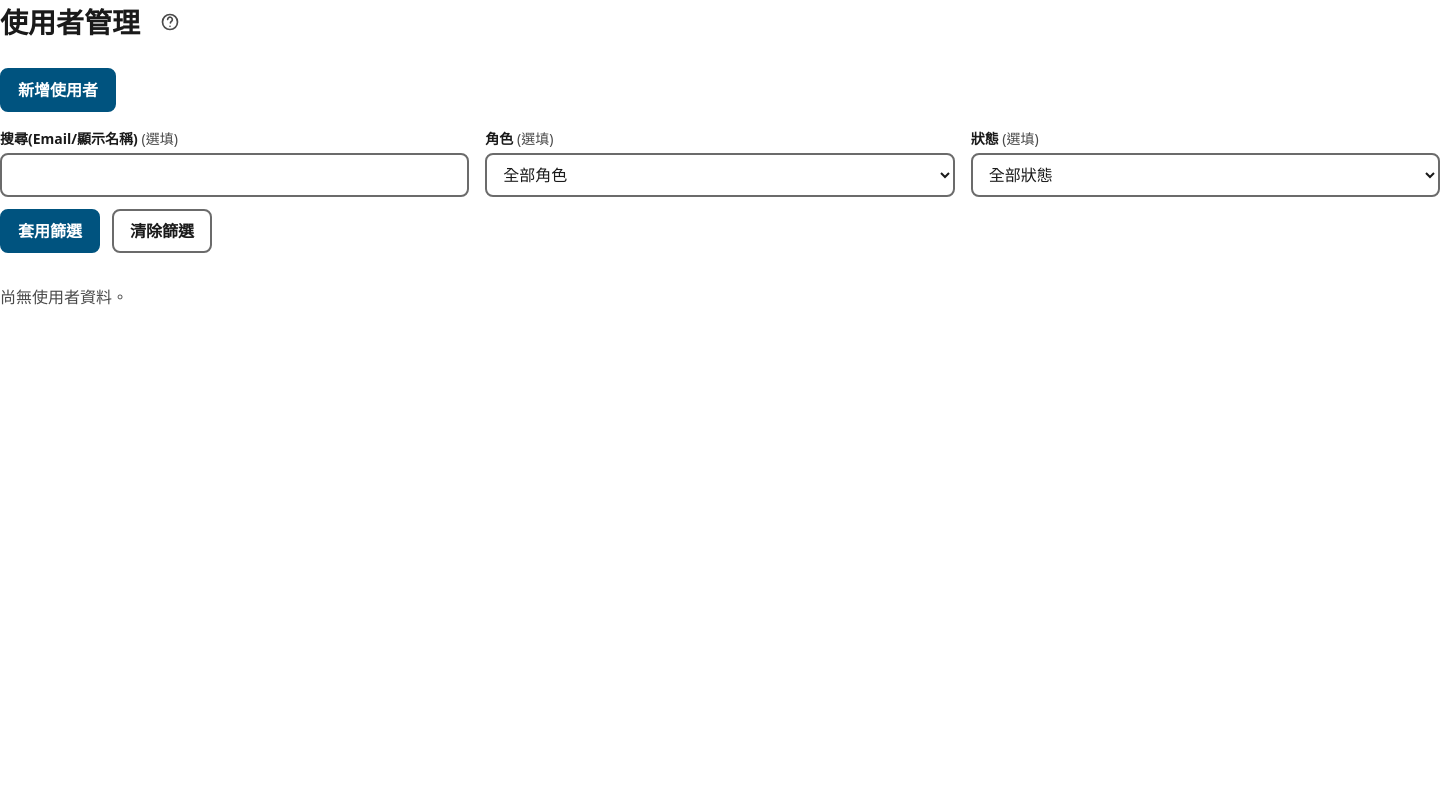
Test case: UsersAdminPage › validates the create form before submitting
Click the button "新增使用者".
click(58, 90)  # box [0,68,116,112]
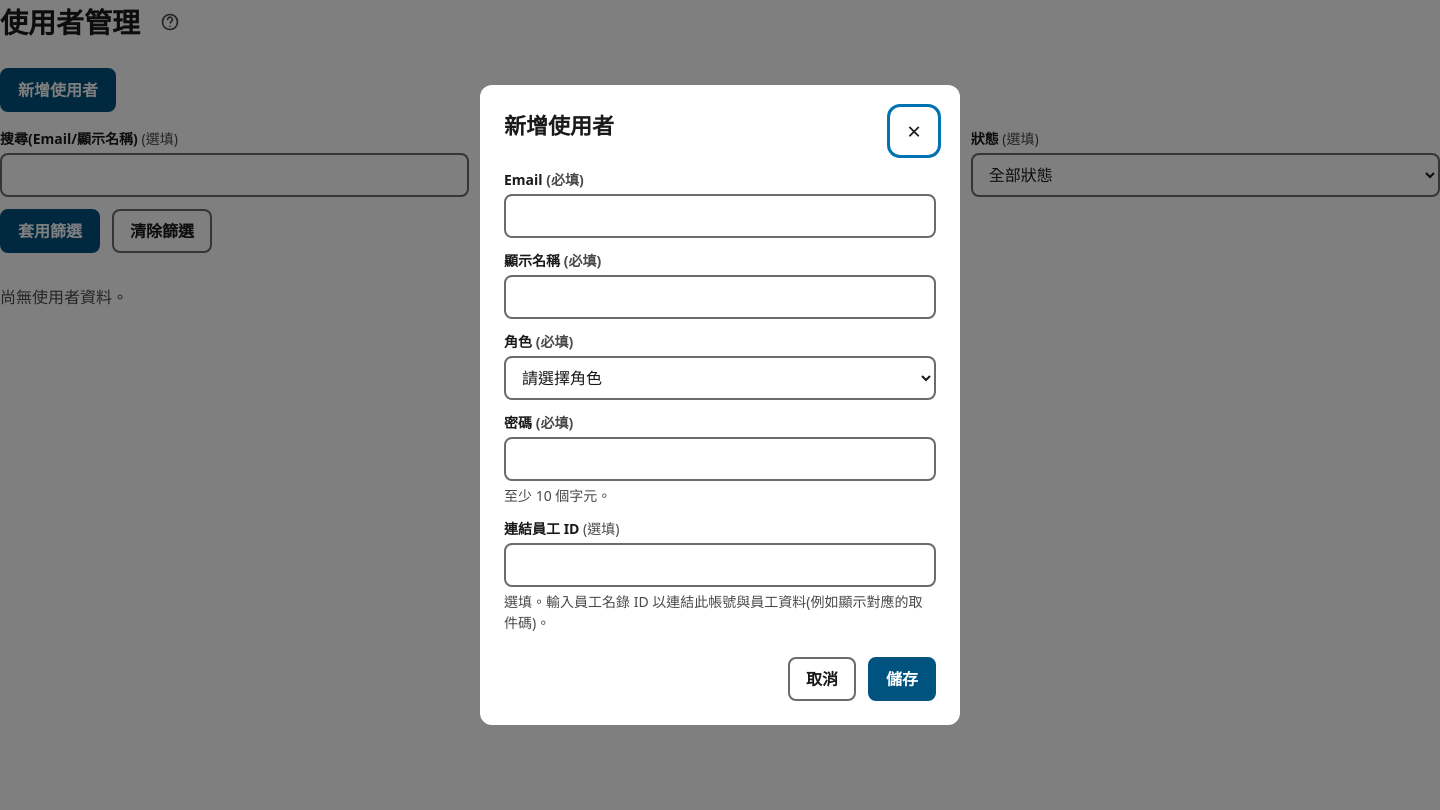
Submit the form, box [504,169,936,633]
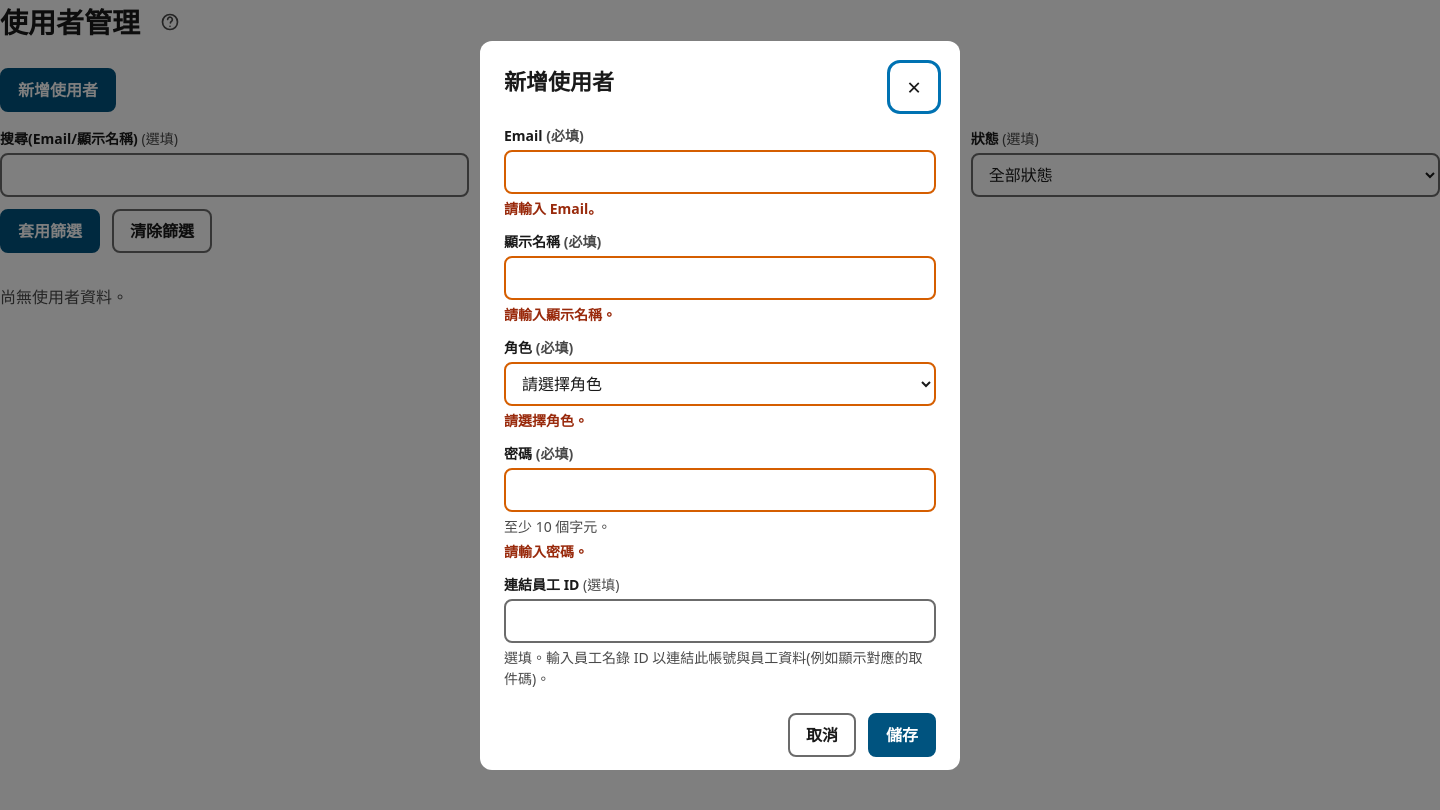
Check: the dialog with class "app-dialog" shows "請輸入 Email", box [504,198,602,218]
Check: the dialog with class "app-dialog" shows "請輸入顯示名稱", box [504,304,616,324]
Check: the dialog with class "app-dialog" shows "請選擇角色", box [504,410,588,430]
